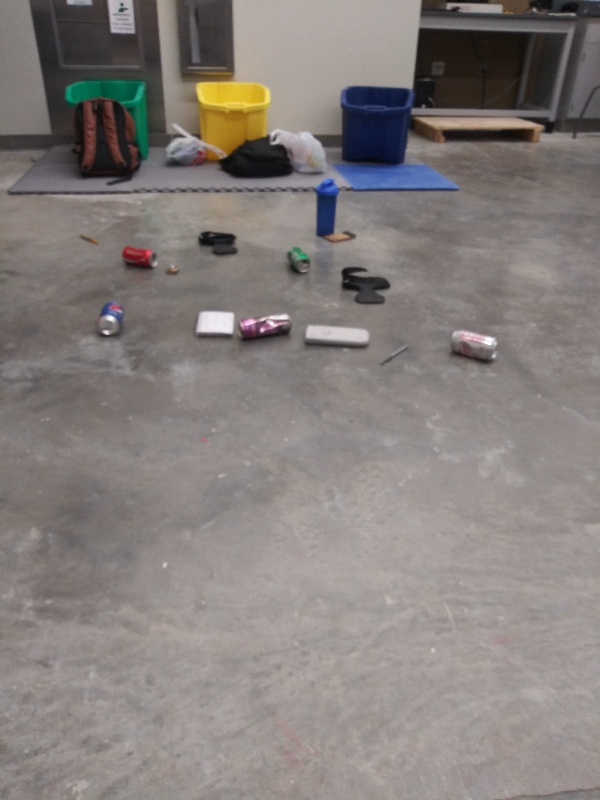can: (446, 326, 500, 364), (237, 311, 296, 343), (94, 298, 129, 339), (116, 243, 160, 270), (284, 244, 314, 276)
